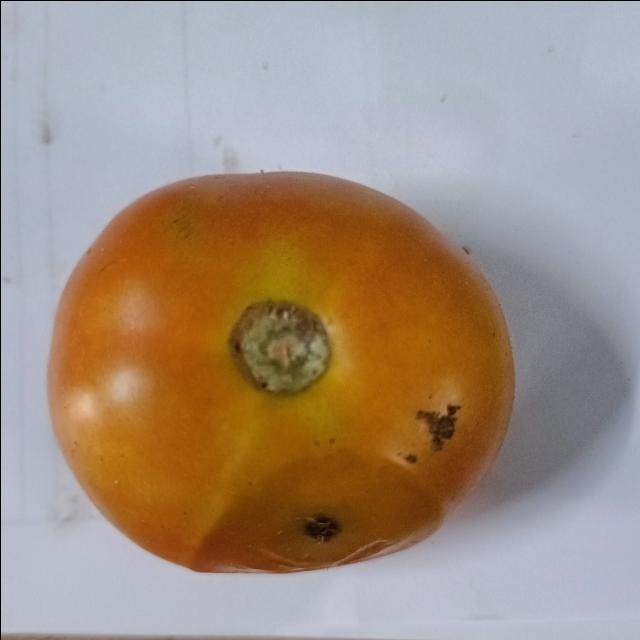Botrytis: (419, 402, 463, 448), (302, 502, 338, 544)
